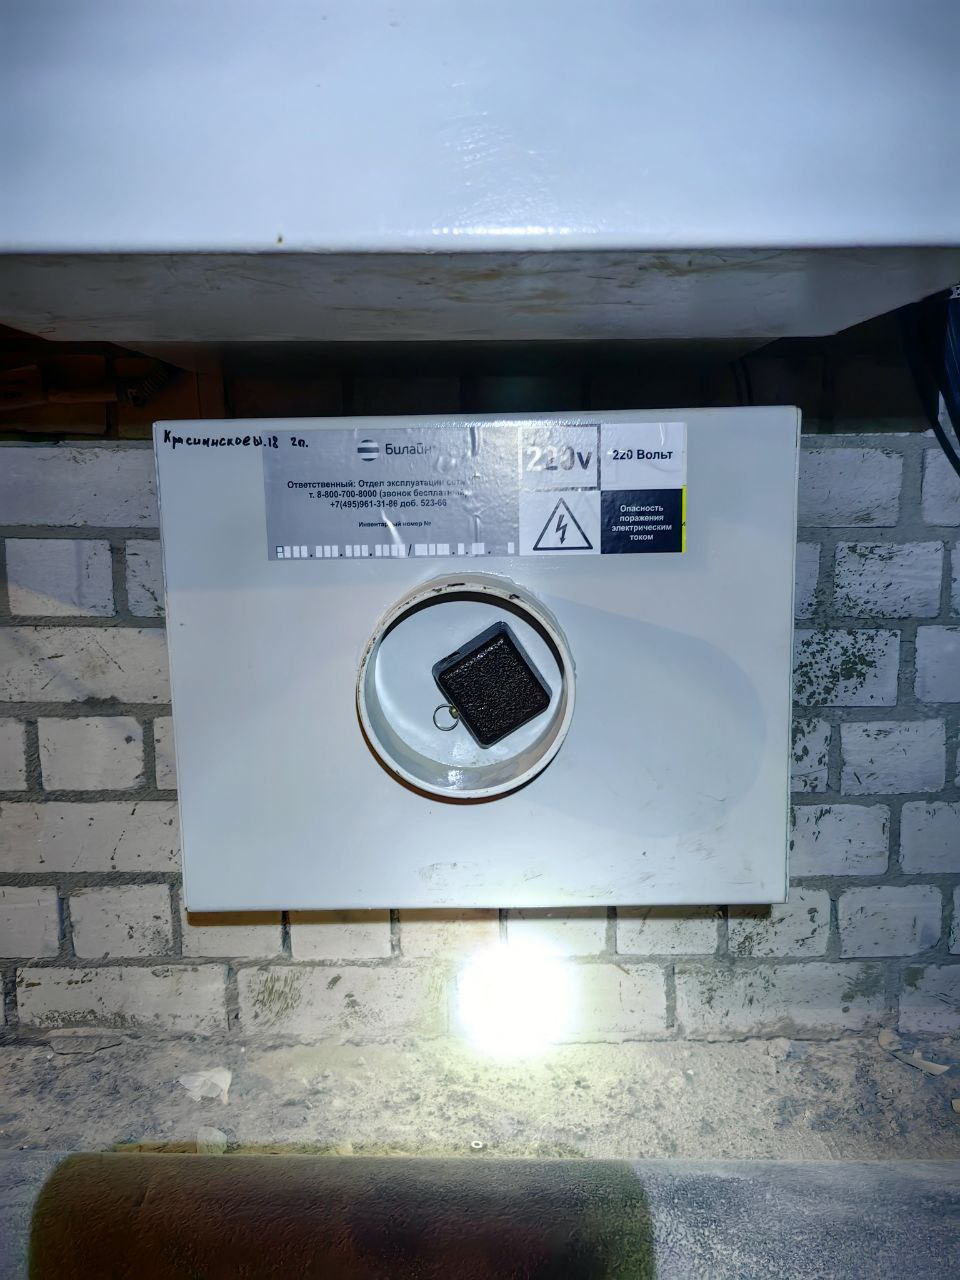shta-ps: (146, 403, 811, 923)
